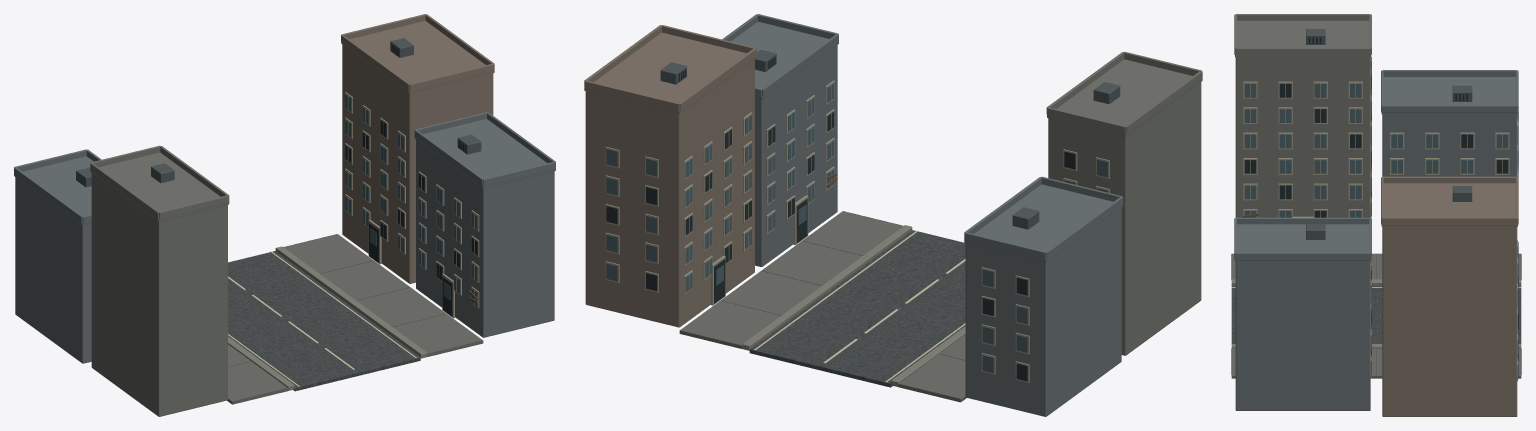
Rendered from city_block_c.glb.
3 views of the same model, side by side, from view 1: azimuth 30°, elevation 25°; view 2: azimuth 150°, elevation 25°; view 3: azimuth 270°, elevation 25° (orthographic). The views are drawn at different scales.
Visible parts, largest first — view 1: CITY_wall_6b7476.001, CITY_wall_74766f.002, CITY_wall_82766b.002, CITY_asphalt_comic.002, CITY_sidewalk.002, CITY_roof_6b7476.001, CITY_roof_82766b.002, CITY_roof_74766f.002, CITY_window_frame.002, CITY_window_glass.002, CITY_curb.002, CITY_window_ink.002 (+2 smaller); view 2: CITY_wall_6b7476.001, CITY_wall_82766b.002, CITY_wall_74766f.002, CITY_asphalt_comic.002, CITY_sidewalk.002, CITY_roof_6b7476.001, CITY_window_frame.002, CITY_window_glass.002, CITY_roof_82766b.002, CITY_roof_74766f.002, CITY_window_ink.002, CITY_curb.002 (+2 smaller); view 3: CITY_wall_6b7476.001, CITY_wall_82766b.002, CITY_wall_74766f.002, CITY_roof_6b7476.001, CITY_window_frame.002, CITY_roof_82766b.002, CITY_window_glass.002, CITY_roof_74766f.002, CITY_window_ink.002, CITY_painted_metal.002, CITY_asphalt_comic.002, CITY_sidewalk.002.
Boxes of the visible parts, x1,y1,x2,y2 form: CITY_wall_6b7476.001: (14,112,555,363); CITY_wall_74766f.002: (90,145,229,416); CITY_wall_82766b.002: (341,14,494,283); CITY_asphalt_comic.002: (228,251,420,391); CITY_sidewalk.002: (227,234,483,404); CITY_roof_6b7476.001: (14,119,555,225); CITY_roof_82766b.002: (341,21,494,93); CITY_roof_74766f.002: (90,152,229,221); CITY_window_frame.002: (345,92,479,318); CITY_window_glass.002: (345,94,477,306); CITY_curb.002: (228,246,427,390); CITY_window_ink.002: (345,45,477,316); CITY_wall_6b7476.001: (722,14,1123,416); CITY_wall_82766b.002: (584,25,756,327); CITY_wall_74766f.002: (1046,51,1202,355); CITY_asphalt_comic.002: (749,230,965,387); CITY_sidewalk.002: (679,211,966,402); CITY_roof_6b7476.001: (731,21,1122,262); CITY_window_frame.002: (605,80,1109,382); CITY_window_glass.002: (606,83,1108,373); CITY_roof_82766b.002: (584,32,756,113); CITY_roof_74766f.002: (1047,59,1202,136); CITY_window_ink.002: (606,56,1075,381); CITY_curb.002: (742,225,965,386); CITY_wall_6b7476.001: (1234,70,1518,410); CITY_wall_82766b.002: (1381,176,1518,416); CITY_wall_74766f.002: (1234,14,1371,217); CITY_roof_6b7476.001: (1235,77,1517,261); CITY_window_frame.002: (1243,57,1517,381); CITY_roof_82766b.002: (1381,183,1517,226); CITY_window_glass.002: (1244,57,1518,379); CITY_roof_74766f.002: (1235,20,1371,57); CITY_window_ink.002: (1244,37,1518,360); CITY_painted_metal.002: (1306,29,1472,239); CITY_asphalt_comic.002: (1231,285,1521,343); CITY_sidewalk.002: (1231,253,1521,378).
Size of the model in its own units: 26.26 by 13.01 by 16.03.
Materials: 16 (1 with a texture image).
